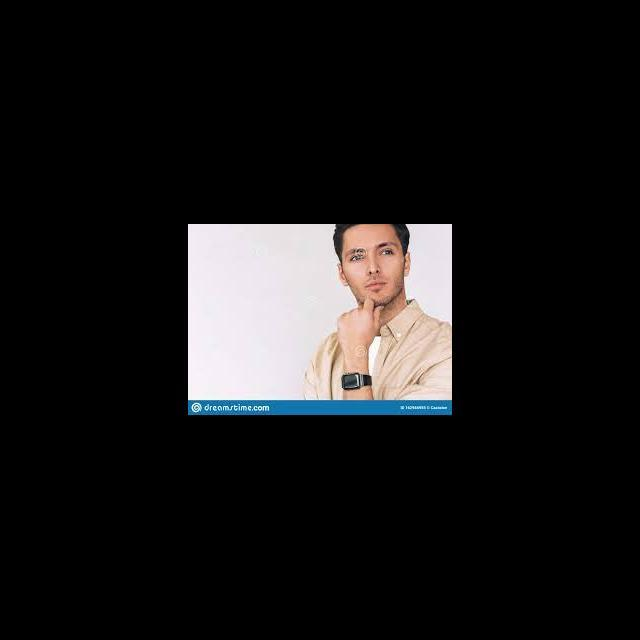watch: (335, 365, 388, 407)
